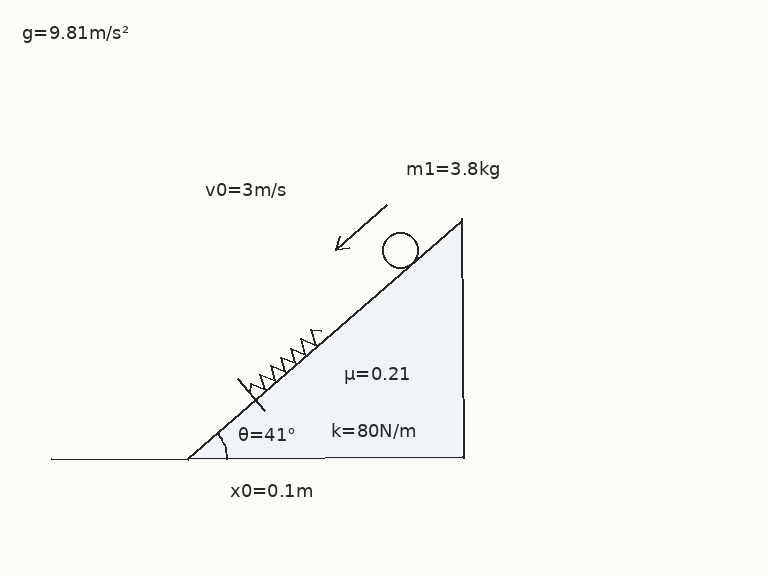ball: (380, 230, 420, 270)
ramp: (185, 218, 464, 461)
spring: (248, 328, 323, 395)
